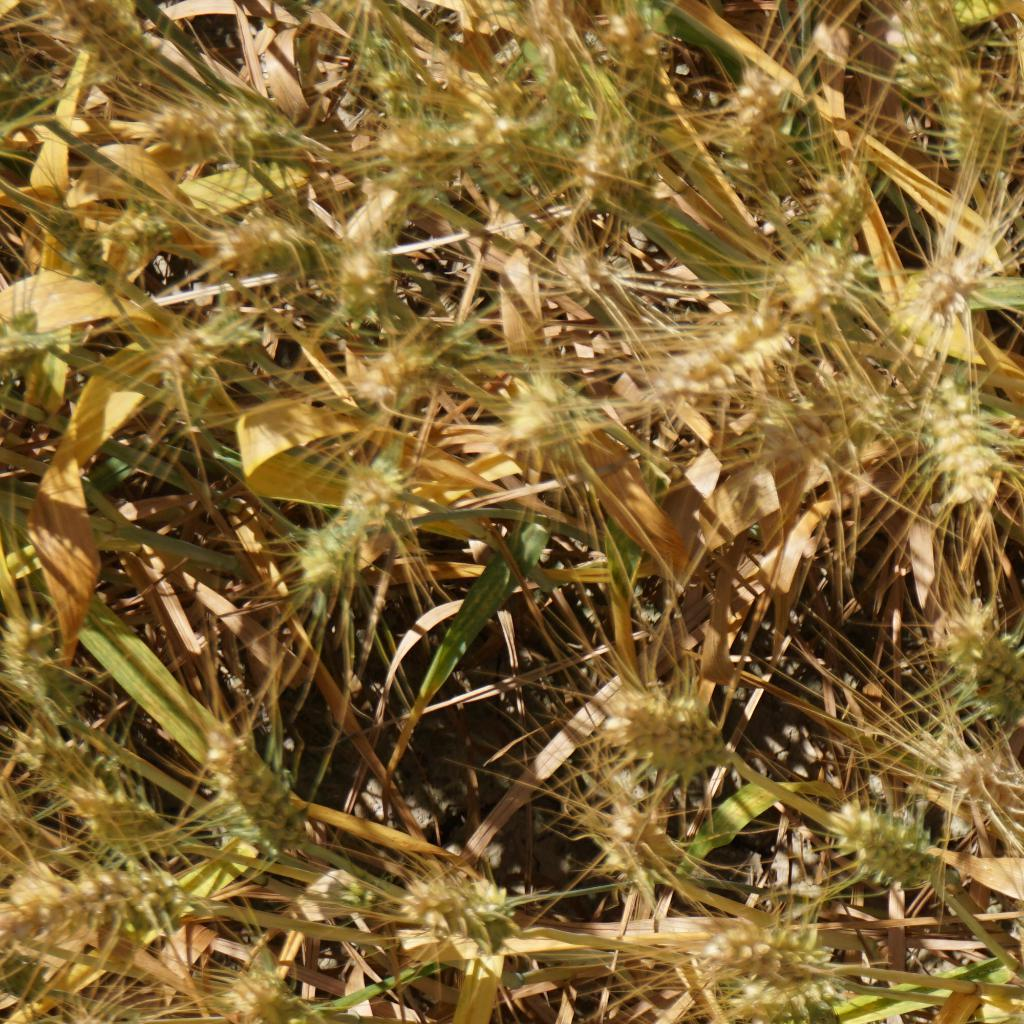0-0: (638, 300, 806, 428), (584, 673, 748, 785), (298, 450, 428, 591), (912, 707, 1024, 848), (18, 722, 144, 844), (919, 587, 1024, 733), (201, 719, 314, 847), (715, 68, 812, 216), (347, 99, 487, 198), (903, 373, 1011, 499), (927, 55, 1024, 185), (739, 386, 873, 476), (0, 880, 172, 950), (888, 239, 992, 337), (405, 863, 524, 940), (3, 611, 80, 719), (55, 0, 149, 83), (536, 228, 629, 309), (508, 362, 595, 448), (711, 924, 823, 989), (135, 102, 248, 166), (835, 809, 932, 883), (49, 201, 123, 297), (221, 954, 321, 1024), (348, 335, 438, 412), (329, 239, 411, 323), (772, 244, 857, 323), (362, 35, 439, 122), (588, 787, 663, 875), (233, 207, 329, 275), (537, 68, 620, 143), (100, 199, 190, 265), (726, 972, 833, 1024), (807, 164, 874, 239), (579, 129, 649, 186), (155, 320, 226, 376), (24, 989, 132, 1024), (900, 24, 958, 83), (0, 324, 42, 368)
